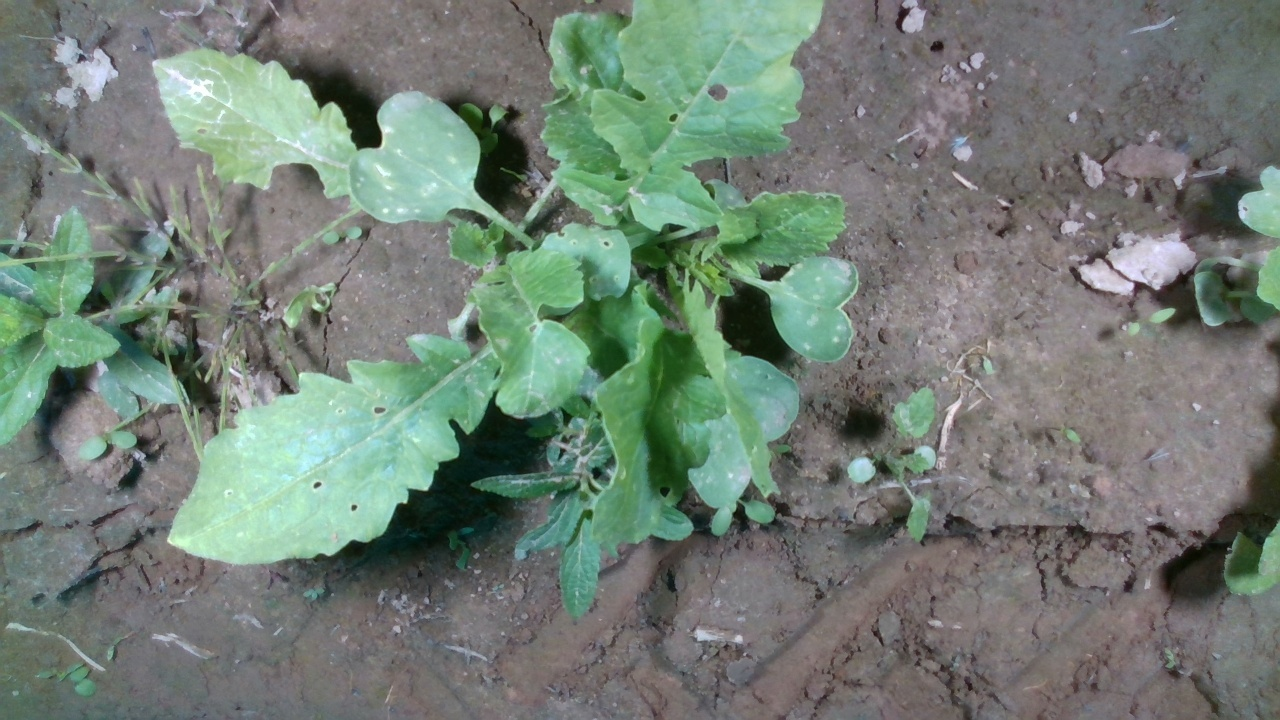weed: (1124, 306, 1177, 338), (301, 584, 326, 604)
